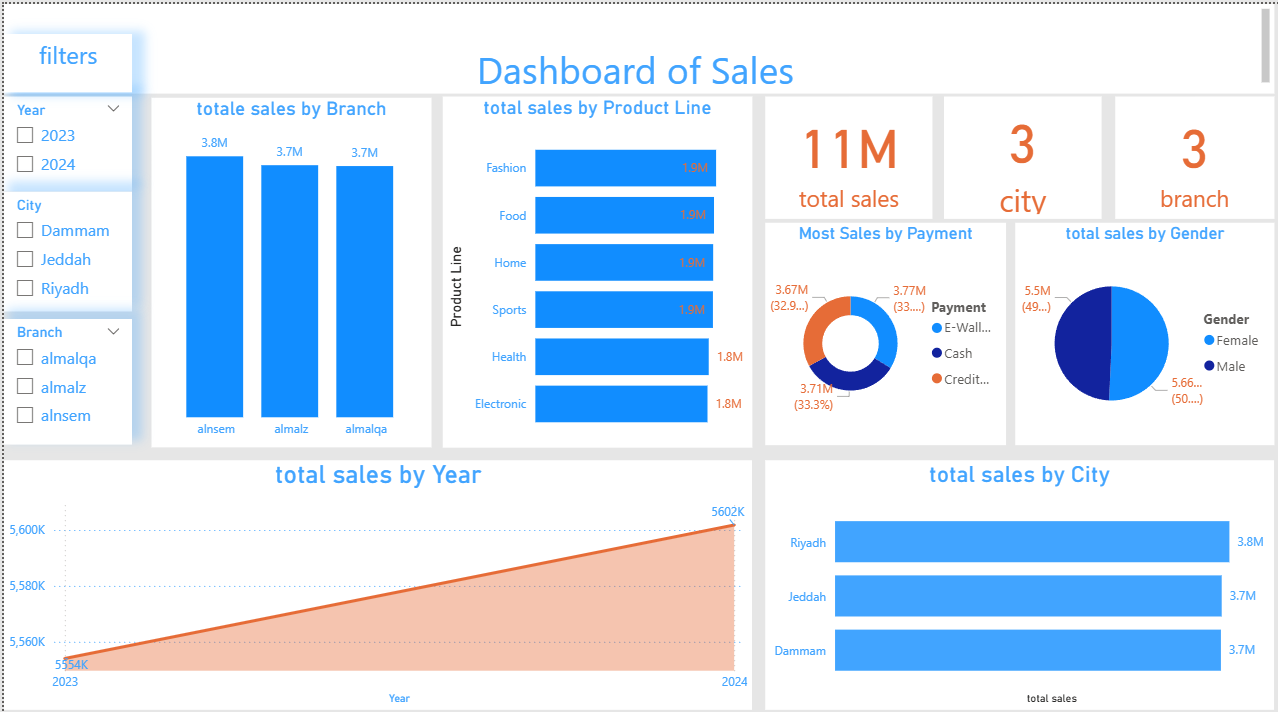

Layout of this report page (visuals, bound fields, positions):
{"tool":"powerbi","page":{"name":"Page 1","canvas":[1280,720],"ordinal":0},"visuals":[{"type":"textbox","box":[0,0,1270.5,89.3],"z":0},{"type":"card","fields":{"Values":["details of sales.total sales"]},"box":[761.8,92.9,167.5,122.3],"z":1000},{"type":"card","fields":{"Values":["date.city"]},"box":[940.4,92.9,157.7,122.3],"z":2000},{"type":"card","fields":{"Values":["date.branch"]},"box":[1111.6,92.9,159,122.3],"z":3000},{"type":"columnChart","title":"totale sales by Branch","fields":{"Category":["details of sales.Branch"],"Y":["Sum(details of sales.totale sales)"]},"box":[148,94.2,280,349.7],"z":4000},{"type":"barChart","fields":{"Category":["details of sales.City"],"Y":["details of sales.total sales"]},"box":[761.8,456.1,508.7,249.5],"z":5000},{"type":"clusteredBarChart","fields":{"Category":["details of sales.Product Line"],"Y":["details of sales.total sales"]},"box":[439,92.9,309.4,351],"z":6000},{"type":"pieChart","fields":{"Category":["details of sales.Gender"],"Y":["details of sales.total sales"]},"box":[1011.3,218.9,259.2,222.6],"z":7000},{"type":"donutChart","title":" Most Sales by Payment","fields":{"Category":["details of sales.Payment"],"Y":["details of sales.total sales"]},"box":[761.8,218.9,240.9,222.6],"z":8000},{"type":"lineChart","fields":{"Category":["date.Year"],"Y":["details of sales.total sales"]},"box":[0,456.1,748.4,249.5],"z":9000},{"type":"slicer","fields":{"Values":["date.Year"]},"box":[0,92.9,128.4,94.2],"z":10000},{"type":"slicer","fields":{"Values":["details of sales.City"]},"box":[0,187.1,128.4,119.8],"z":11000},{"type":"slicer","fields":{"Values":["details of sales.Branch"]},"box":[0,315.5,128.4,126],"z":12000},{"type":"textbox","box":[0,30.6,128.4,58.7],"z":13000}]}

Visuals, with their boxes in screenshot pixels (x1, y1, x2, y2), scaled from the page's 1280x720 canvas onto the 1278x712 screenshot:
textbox: bbox=(0, 0, 1269, 88)
card - details of sales.total sales: bbox=(761, 92, 928, 213)
card - date.city: bbox=(939, 92, 1096, 213)
card - date.branch: bbox=(1110, 92, 1269, 213)
"totale sales by Branch" columnChart: bbox=(148, 93, 427, 439)
barChart - details of sales.City x details of sales.total sales: bbox=(761, 451, 1269, 698)
clusteredBarChart - details of sales.Product Line x details of sales.total sales: bbox=(438, 92, 747, 439)
pieChart - details of sales.Gender x details of sales.total sales: bbox=(1010, 216, 1269, 437)
" Most Sales by Payment" donutChart: bbox=(761, 216, 1001, 437)
lineChart - date.Year x details of sales.total sales: bbox=(0, 451, 747, 698)
slicer - date.Year: bbox=(0, 92, 128, 185)
slicer - details of sales.City: bbox=(0, 185, 128, 303)
slicer - details of sales.Branch: bbox=(0, 312, 128, 437)
textbox: bbox=(0, 30, 128, 88)
